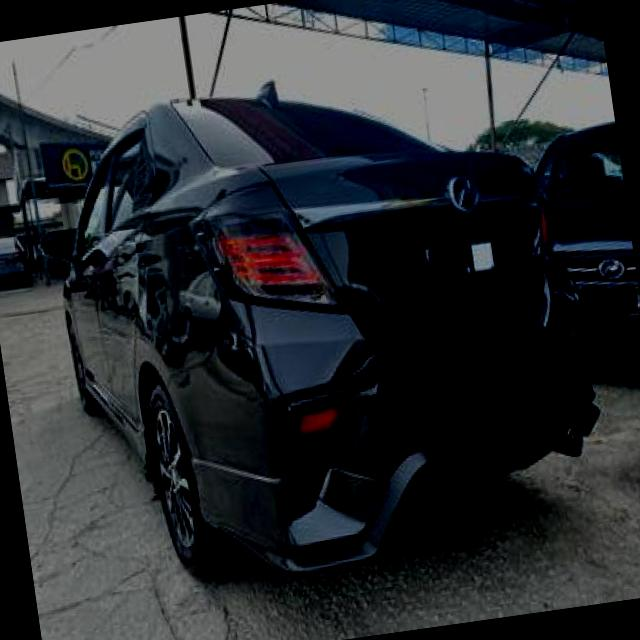PeroduaBezza: (27, 42, 618, 606)
